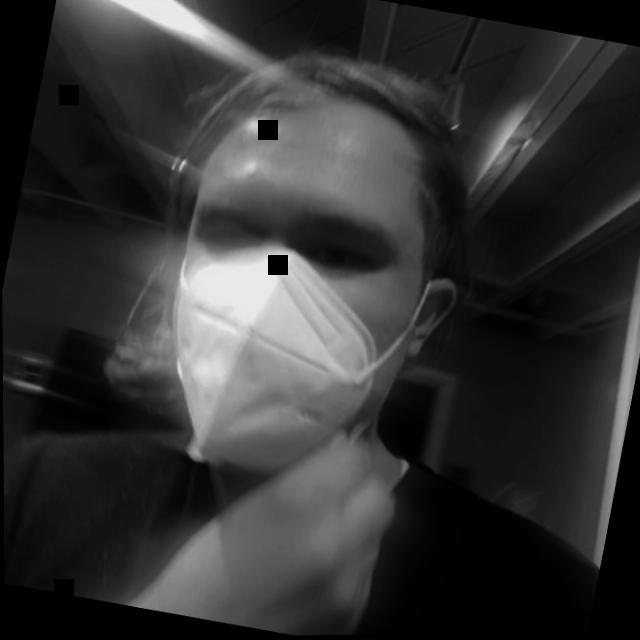Mask: (76, 0, 545, 501)
